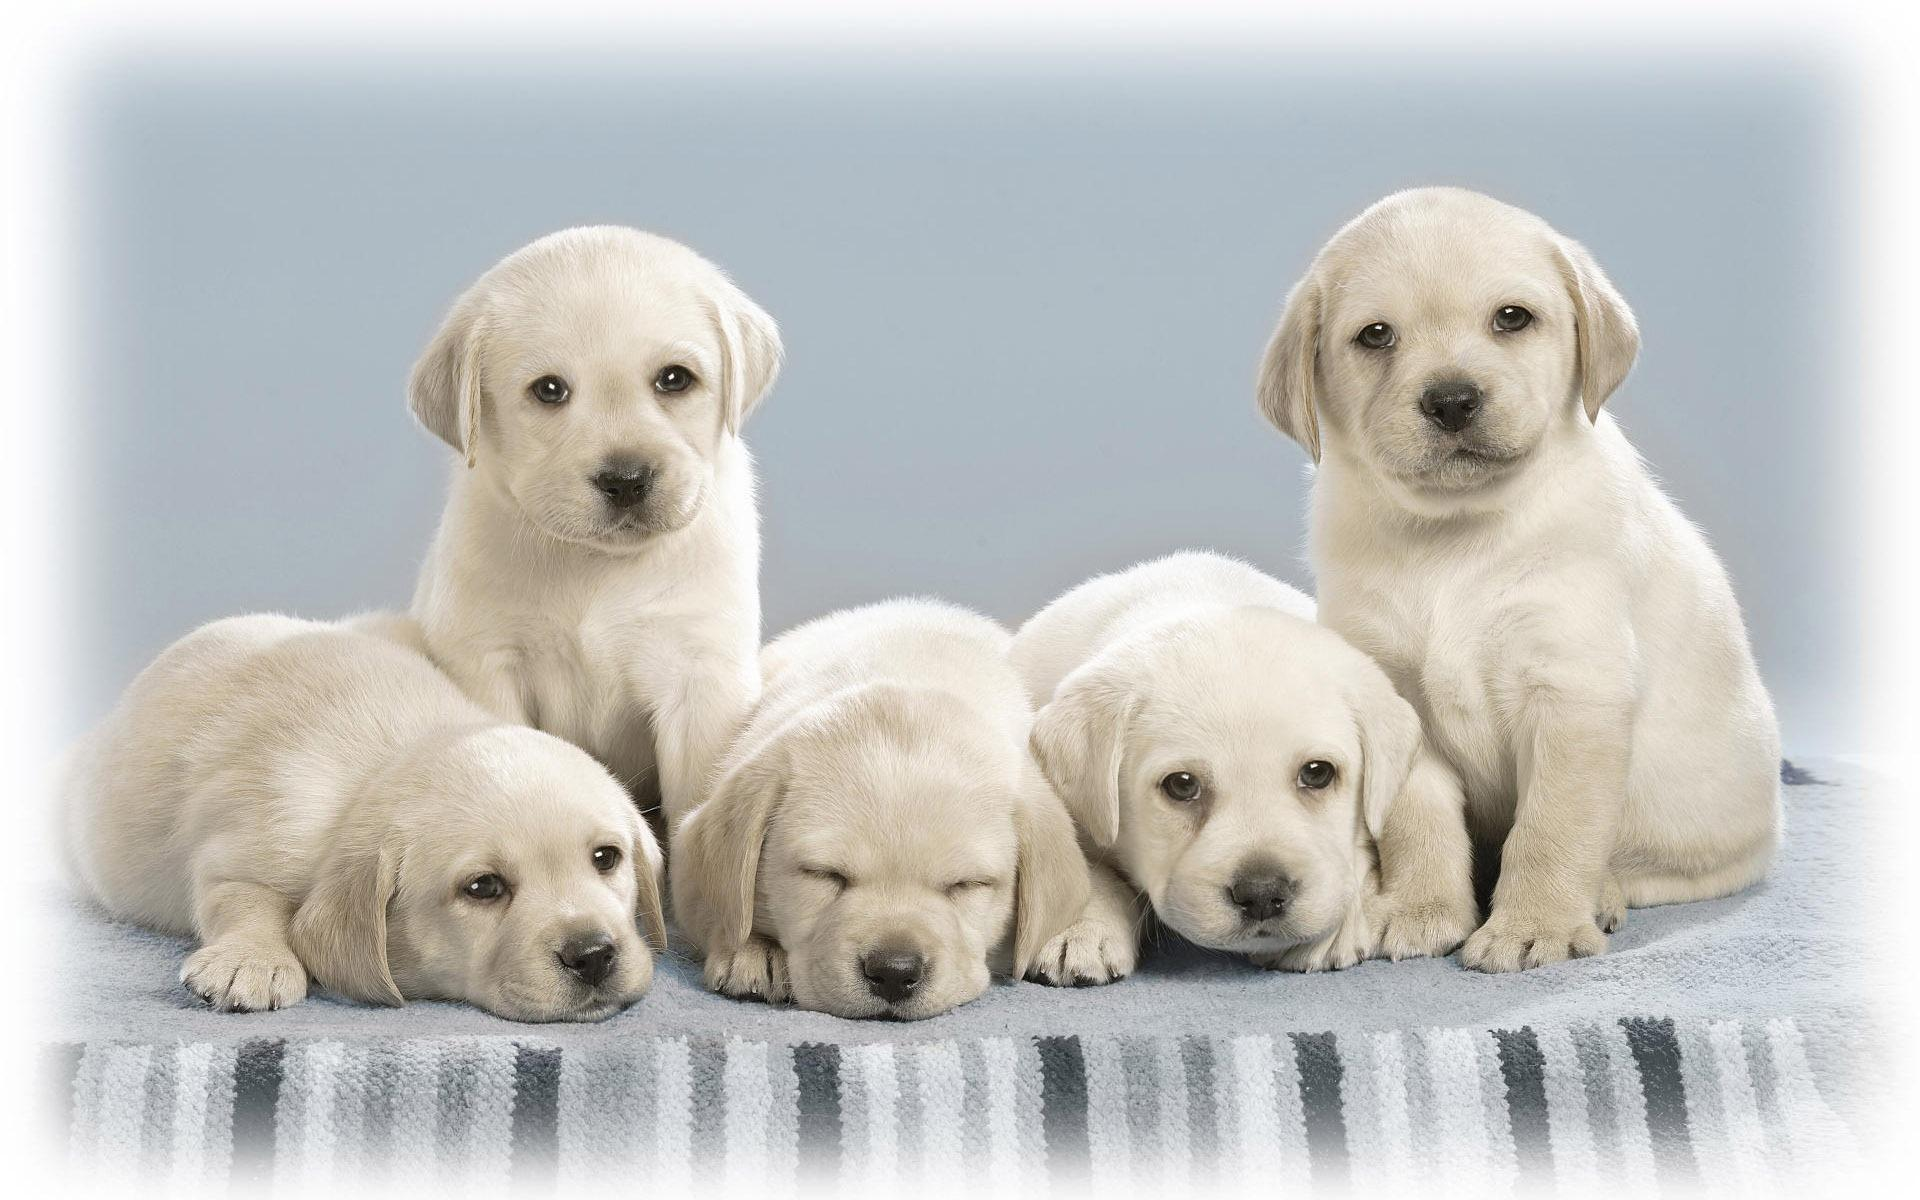dog: (46, 607, 659, 1024), (1063, 545, 1440, 971), (680, 612, 1051, 1027), (402, 213, 780, 600), (1255, 180, 1652, 547)
